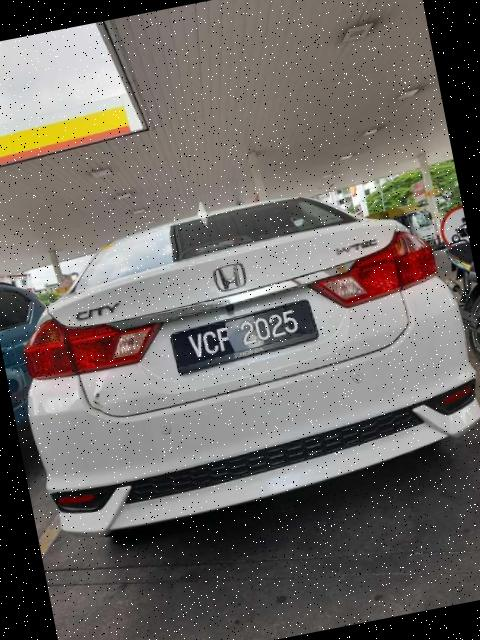License_Plate: (167, 298, 322, 376)
car: (1, 160, 480, 548)
